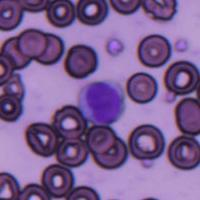M: (78, 80, 125, 125)
